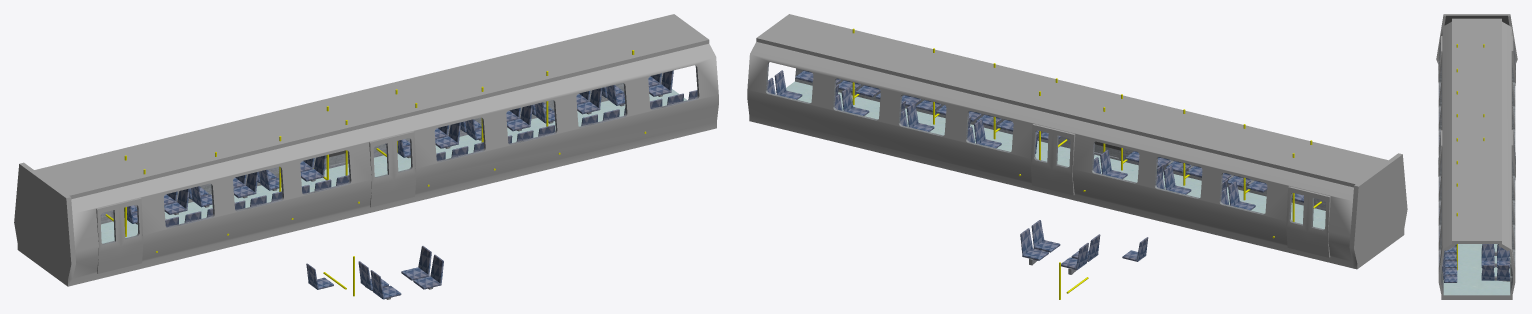
Rendered from insida tunnelbana.fbx.
3 renders of one model, left to right at view 1: azimuth 30°, elevation 25°; view 2: azimuth 150°, elevation 25°; view 3: azimuth 270°, elevation 25°, orthographic. The views are drawn at different scales.
Parts seen in each view (by area): view 1: train_shape, door1, door, seat27, seat11, seat25, seat14, seat29, seat31, seat12, seat4, seat5; view 2: train_shape, door2, door3, seat31, seat12, seat14, seat4, seat29, seat11, seat5, seat27, seat25; view 3: train_shape, seat32, seat31, seat45, door2, door3, seat42, door1, door, seat43, seat44, seat40.
Part boxes in pixels (x1,y1,x2,y2): train_shape: (14, 14, 718, 286); door1: (369, 131, 416, 207); door: (96, 198, 143, 273); seat27: (506, 105, 532, 131); seat11: (300, 155, 326, 181); seat25: (434, 122, 460, 148); seat14: (163, 188, 189, 214); seat29: (576, 88, 602, 114); seat31: (648, 70, 673, 96); seat12: (233, 171, 258, 198); seat4: (413, 254, 443, 289); seat5: (401, 246, 431, 280); train_shape: (747, 14, 1407, 269); door2: (1030, 124, 1075, 195); door3: (1286, 186, 1330, 257); seat31: (767, 70, 802, 99); seat12: (1156, 165, 1191, 194); seat14: (1221, 181, 1255, 210); seat4: (1031, 220, 1060, 252); seat29: (834, 86, 869, 115); seat11: (1093, 150, 1127, 179); seat5: (1020, 228, 1048, 260); seat27: (900, 102, 934, 131); seat25: (967, 119, 1001, 148); train_shape: (1436, 14, 1517, 299); seat32: (1481, 244, 1511, 268); seat31: (1481, 265, 1512, 281); seat45: (1442, 262, 1457, 282); door2: (1511, 130, 1515, 179); door3: (1511, 35, 1515, 85); seat42: (1443, 258, 1457, 275); door1: (1438, 130, 1442, 177); door: (1438, 36, 1442, 83); seat43: (1443, 254, 1457, 267); seat44: (1444, 251, 1456, 260); seat40: (1444, 246, 1456, 253).
Bounding box in the file's own units: 81.36 × 24.7 × 12.43.
7 materials, 3 textured.
